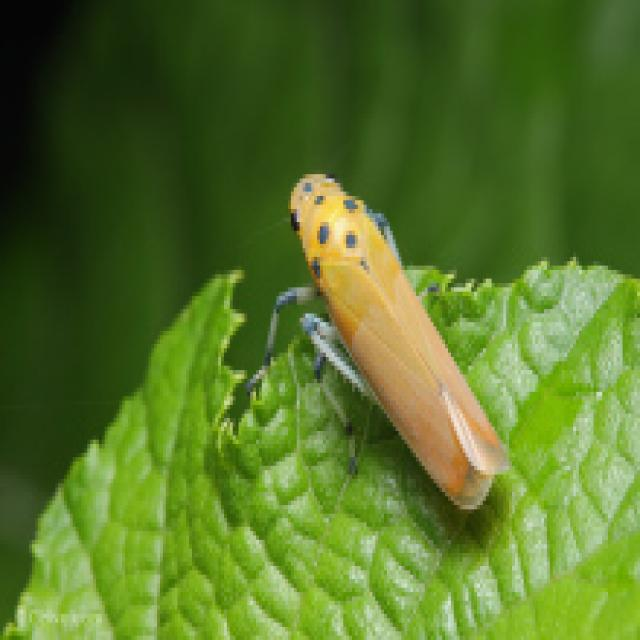Yechan: (273, 146, 521, 532)
